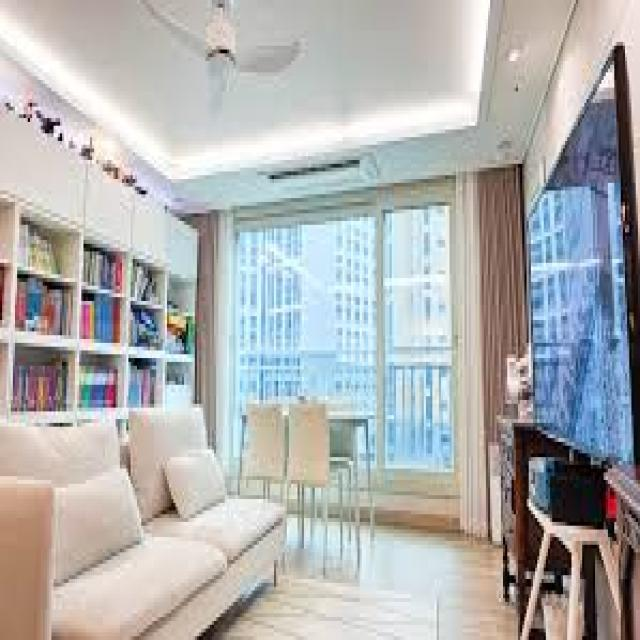Chair: (289, 393, 354, 574), (241, 387, 287, 500)
Sofa: (3, 403, 290, 634)
tv: (528, 45, 626, 451)
window: (198, 215, 503, 499)
